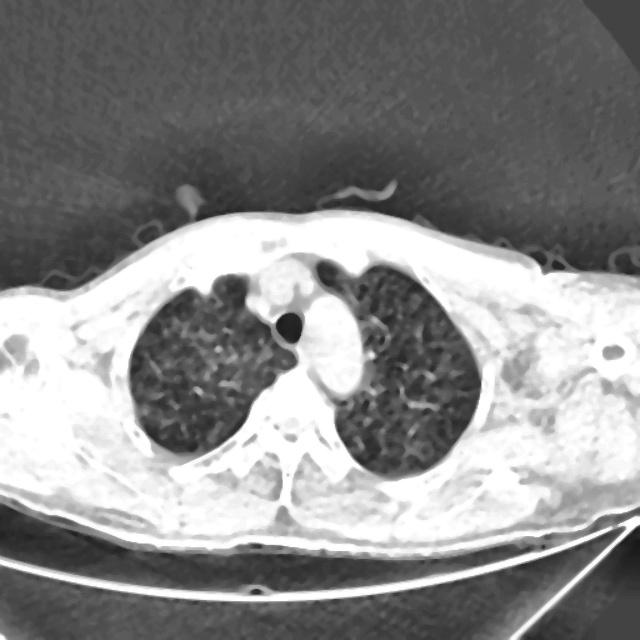covid: (0, 204, 639, 562)
